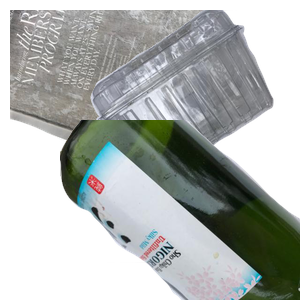glass: (60, 120, 300, 300)
paper: (10, 10, 222, 176)
plastic: (88, 10, 300, 180)
trash: (60, 120, 300, 300)
